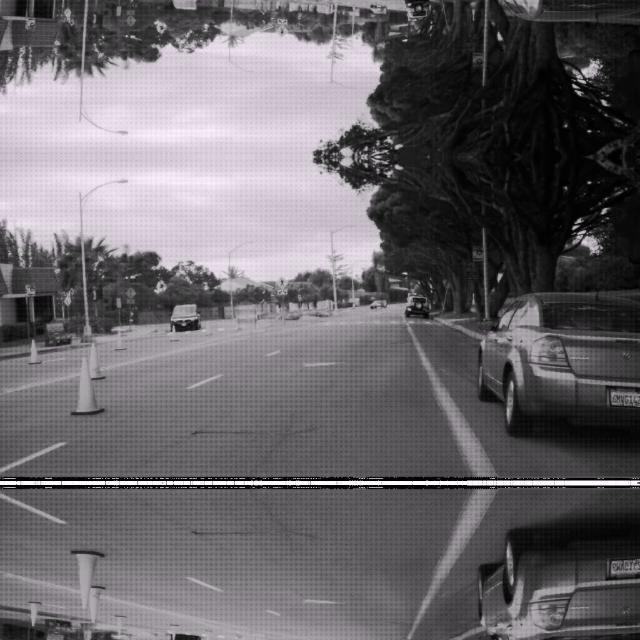pedestrianCrossing: (274, 274, 288, 288), (274, 24, 288, 38)
